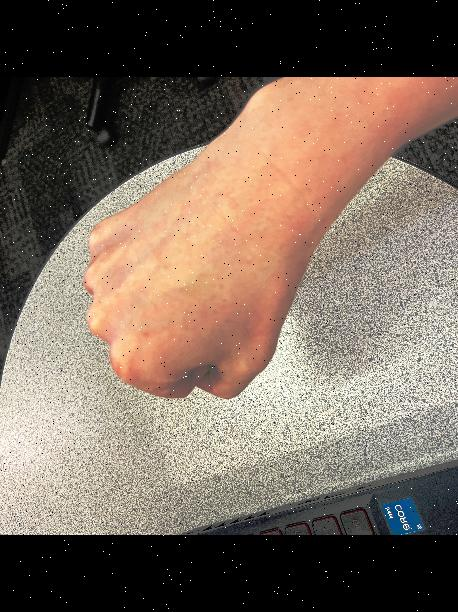Rock: (46, 156, 379, 422)
